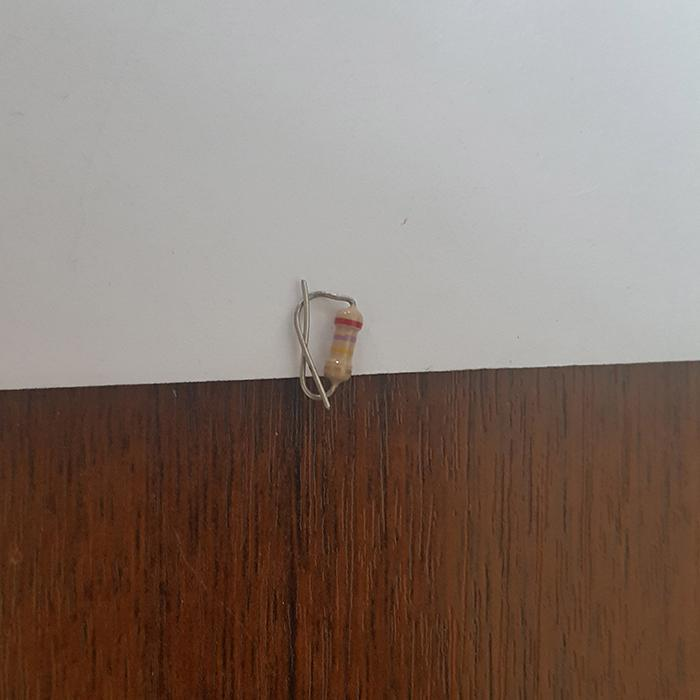resistor: (323, 302, 363, 387)
